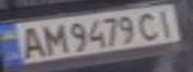4: (84, 17, 109, 48)
7: (103, 15, 124, 46)
9: (115, 12, 142, 44), (66, 19, 90, 52)
A: (12, 24, 48, 60)
C: (133, 9, 166, 42)
I: (151, 6, 181, 38)
M: (36, 20, 69, 55)
